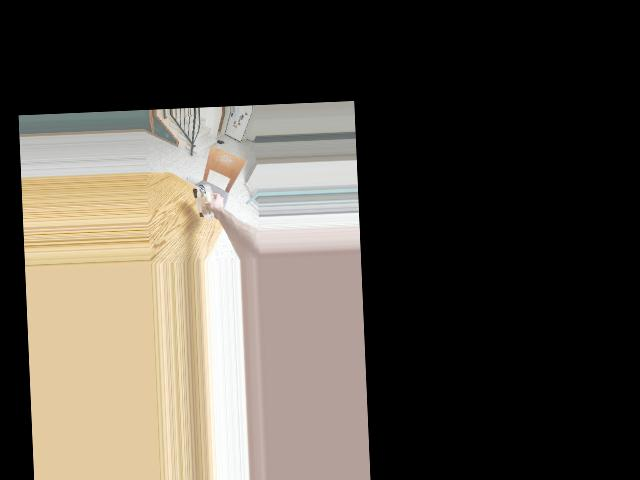cheese: (192, 185, 216, 218)
